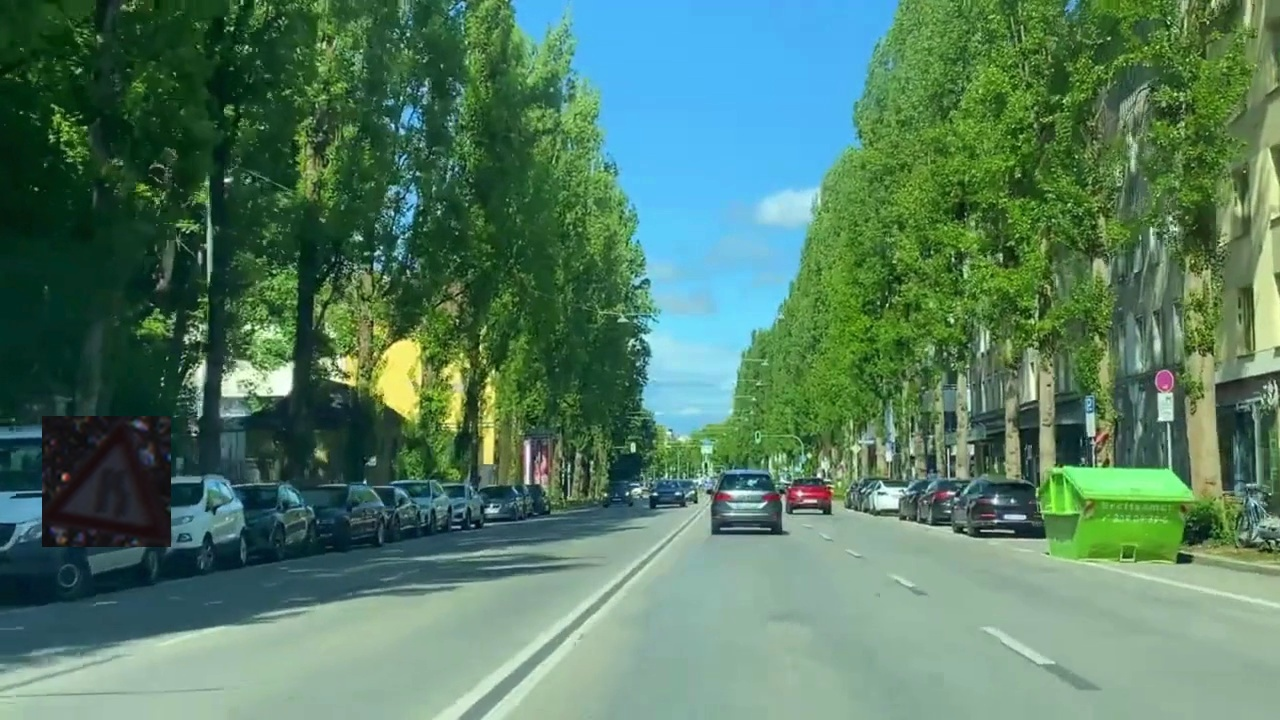Road narrows: (42, 416, 171, 547)
